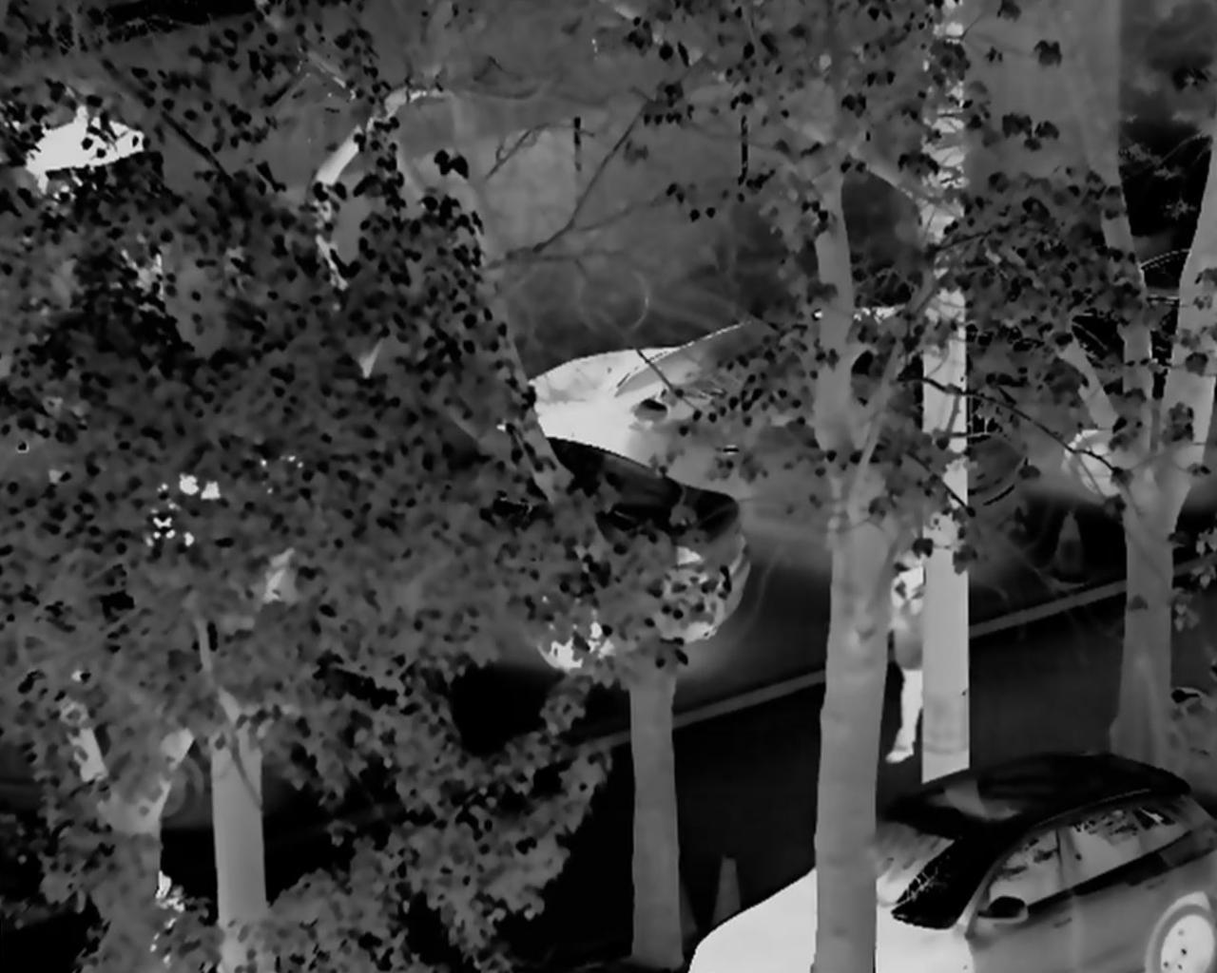person: (858, 528, 938, 773)
